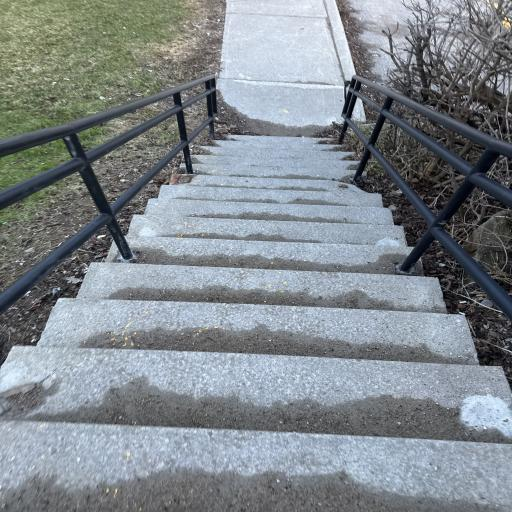Stairs: (0, 135, 512, 512)
